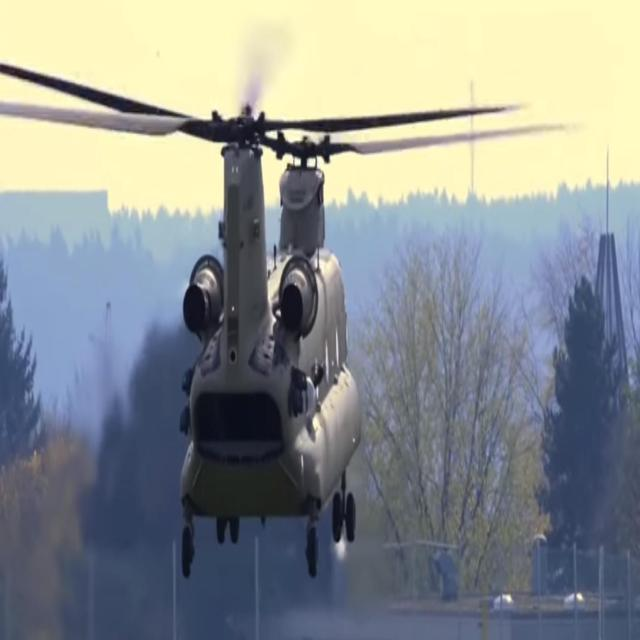Helicopter: (71, 54, 509, 552)
